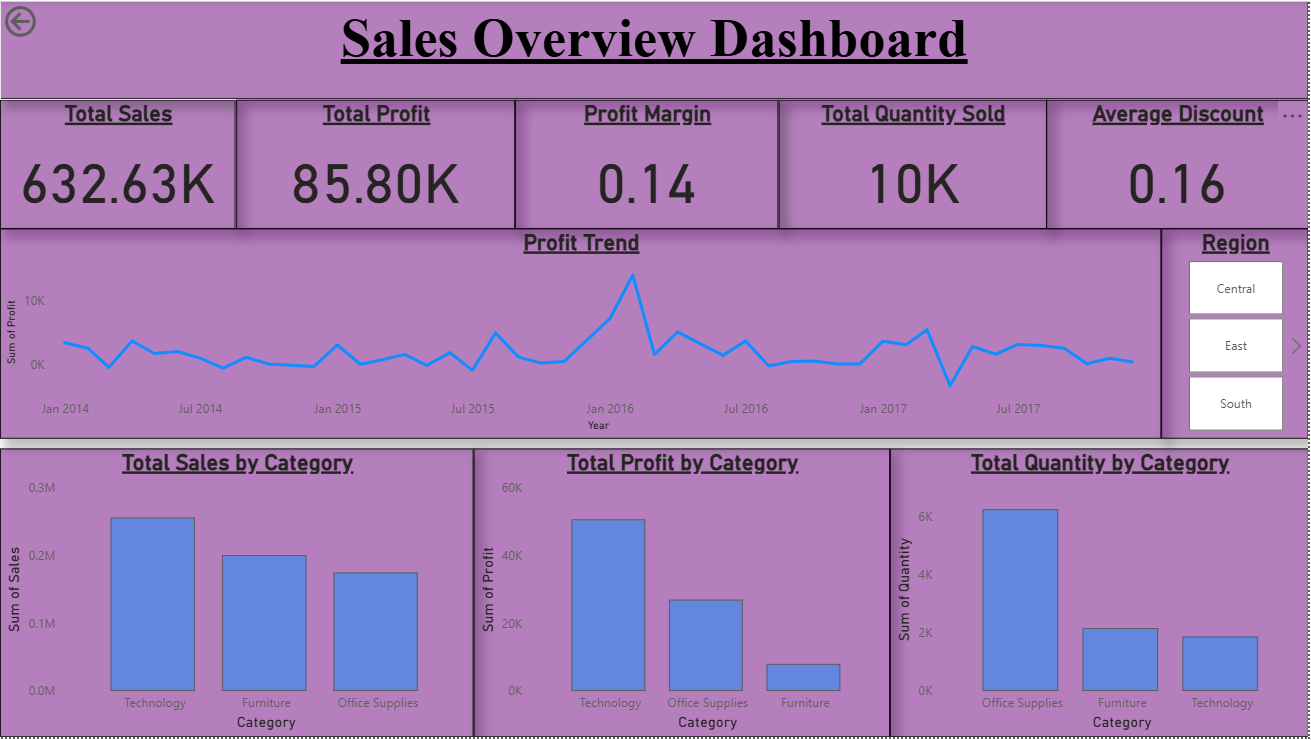

What the dashboard file says about the page in this screenshot:
{"tool":"powerbi","page":{"name":"Page 1","canvas":[1280,720],"ordinal":0},"visuals":[{"type":"card","title":"Total Sales","fields":{"Values":["Sum(Superstore Sale..Sales)"]},"box":[0,96.1,230.5,126.2],"z":0},{"type":"textbox","box":[0,0,1280.3,96.1],"z":1000},{"type":"card","title":"Total Profit","fields":{"Values":["Sum(Superstore Sale..Profit)"]},"box":[230.5,96.1,273.1,126.2],"z":2000},{"type":"card","title":"Total Quantity Sold","fields":{"Values":["Sum(Superstore Sale..Quantity)"]},"box":[761.6,96.1,262.1,126.2],"z":3000},{"type":"card","title":"Average Discount","fields":{"Values":["Avg(Superstore Sale..Discount)"]},"box":[1023.7,96.1,256.6,126.2],"z":4000},{"type":"actionButton","box":[0,0,100,40],"z":5000},{"type":"card","title":"Profit Margin","fields":{"Values":["Superstore Sale..Profit Margin"]},"box":[503.6,96.1,258,126.2],"z":6000},{"type":"columnChart","title":"Total Sales by Category","fields":{"Category":["Superstore Sale..Category"],"Y":["Sum(Superstore Sale..Sales)"]},"box":[0,437.8,463.5,282.5],"z":7000},{"type":"columnChart","title":"Total Profit by Category","fields":{"Category":["Superstore Sale..Category"],"Y":["Sum(Superstore Sale..Profit)"]},"box":[463.5,437.8,407.2,282.5],"z":8000},{"type":"columnChart","title":"Total Quantity by Category","fields":{"Y":["Sum(Superstore Sale..Quantity)"],"Category":["Superstore Sale..Category"]},"box":[870.7,437.8,409.6,282.5],"z":9000},{"type":"lineChart","title":"Profit Trend","fields":{"Y":["Sum(Superstore Sale..Profit)"],"Category":["Superstore Sale..Order Date.Variation.Date Hierarchy.Year","Superstore Sale..Order Date.Variation.Date Hierarchy.Quarter","Superstore Sale..Order Date.Variation.Date Hierarchy.Month"]},"box":[0,222.6,1136,205.4],"z":10000},{"type":"slicer","title":"Region","fields":{"Values":["Superstore Sale..Region"]},"box":[1136,222.6,144.3,205.4],"z":11000}]}

Visuals, with their boxes in screenshot pixels (x1, y1, x2, y2), scaled from the page's 1280x720 canvas onto the 1311x740 screenshot:
"Total Sales" card: <region>0, 99, 236, 228</region>
textbox: <region>0, 0, 1310, 99</region>
"Total Profit" card: <region>236, 99, 516, 228</region>
"Total Quantity Sold" card: <region>780, 99, 1048, 228</region>
"Average Discount" card: <region>1048, 99, 1310, 228</region>
actionButton: <region>0, 0, 102, 41</region>
"Profit Margin" card: <region>516, 99, 780, 228</region>
"Total Sales by Category" columnChart: <region>0, 450, 475, 739</region>
"Total Profit by Category" columnChart: <region>475, 450, 892, 739</region>
"Total Quantity by Category" columnChart: <region>892, 450, 1310, 739</region>
"Profit Trend" lineChart: <region>0, 229, 1164, 440</region>
"Region" slicer: <region>1164, 229, 1310, 440</region>
